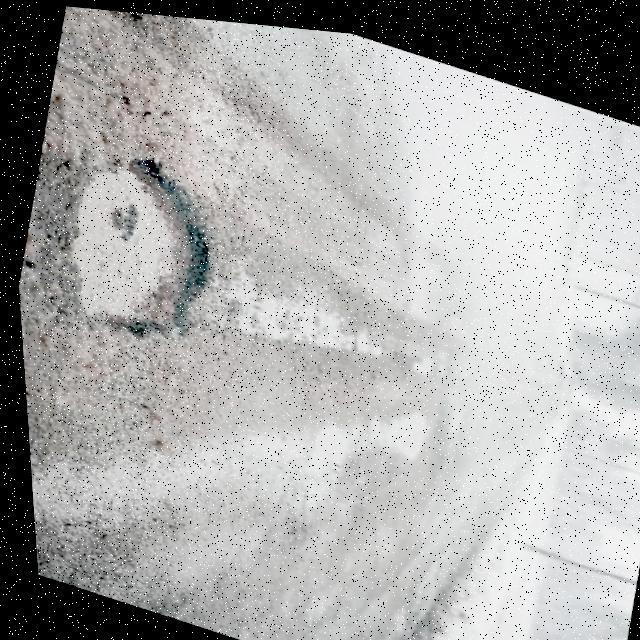pothole: (44, 130, 238, 358)
